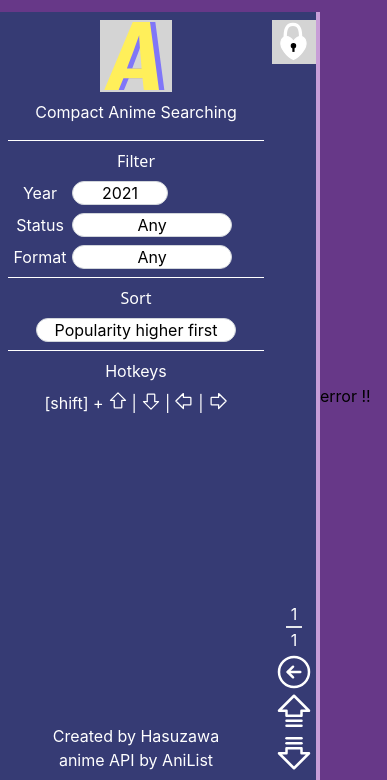
Test: Click elements › Year filter menu can be opened and closed
Click the text with id "yearFilterSelect" at (120, 193), box [72,181,168,205]
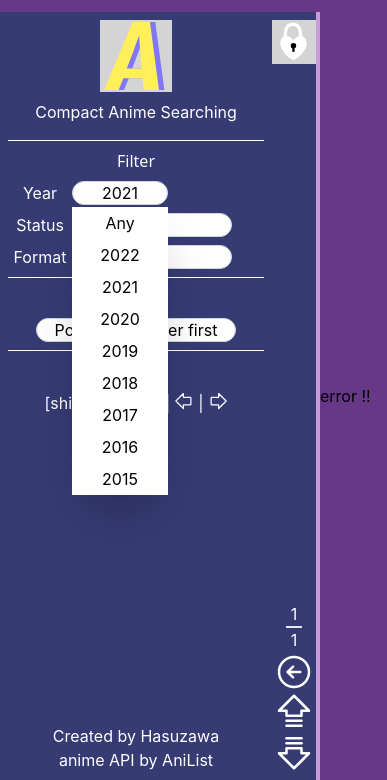
Expected: the element with id "yearFilterSelect-options" is shown, [72,207,168,495]
Click the text with id "yearFilterSelect" at (120, 193), box [72,181,168,205]
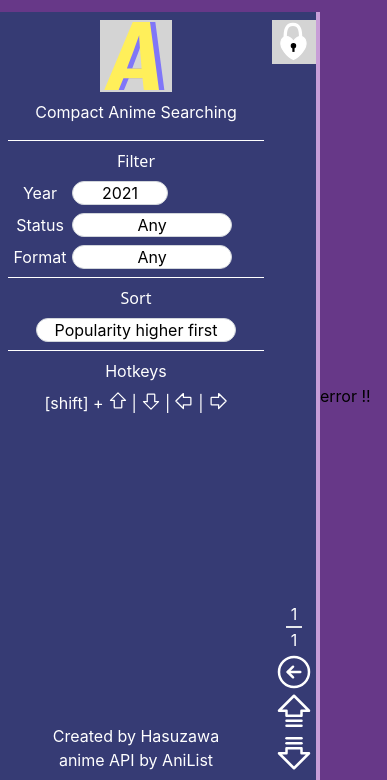
Expected: the element with id "yearFilterSelect-options" is gone
